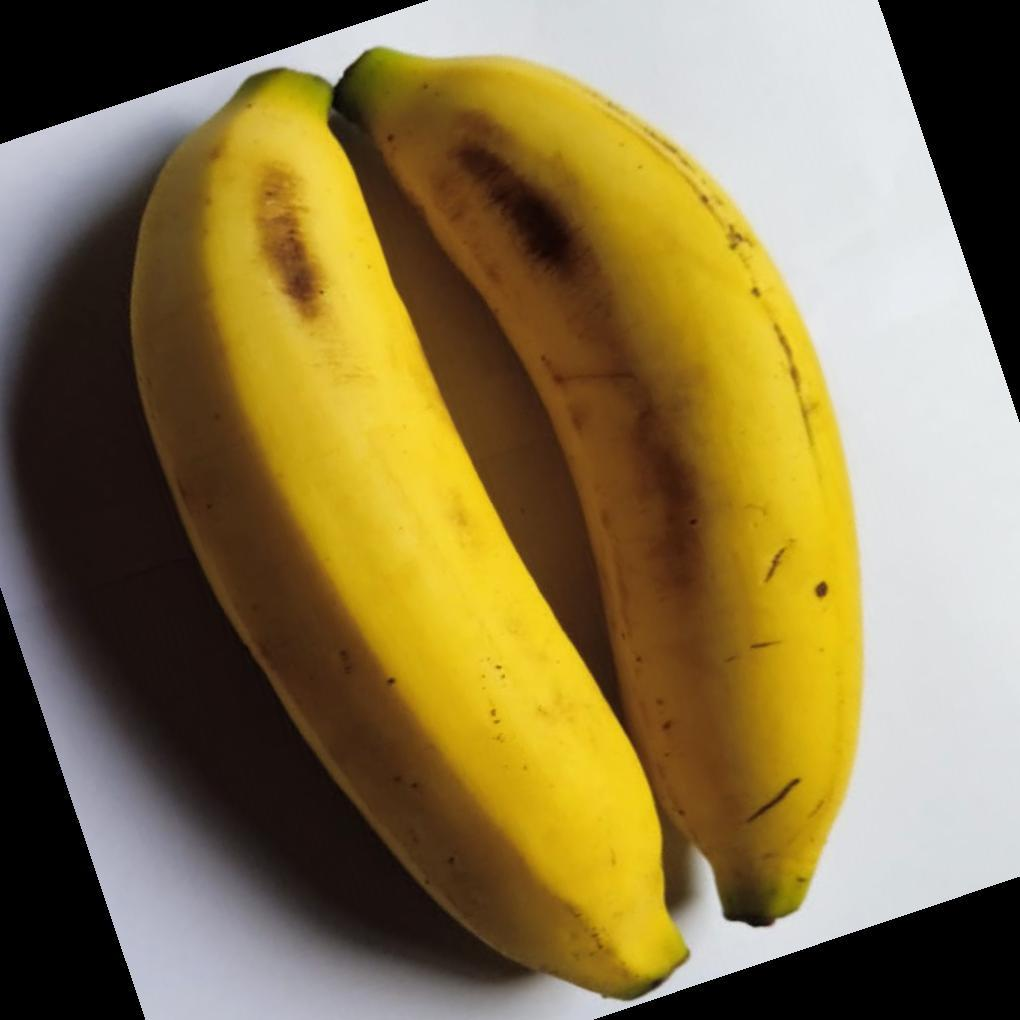Banana Ripe: (149, 56, 974, 1014)
